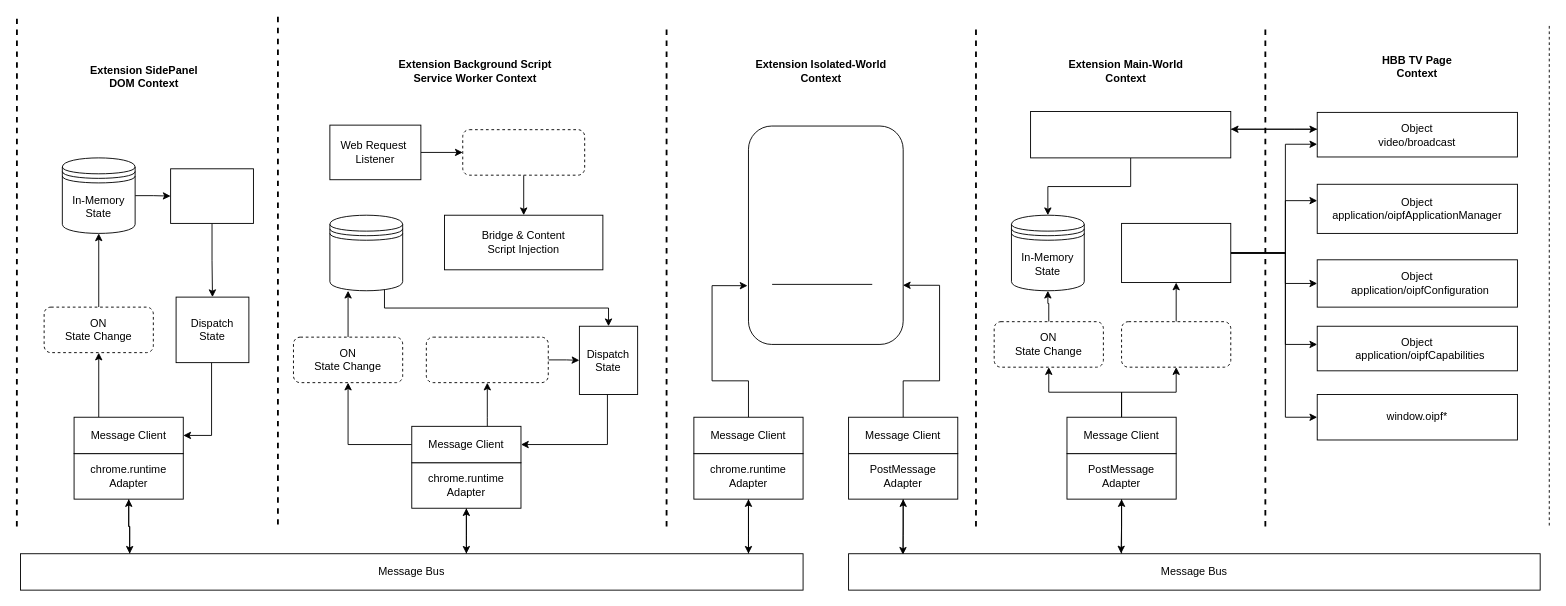
This 1566x606 diagram has some shape labels left out. The shapes that lost their labels are listed below. From the top down, each one's centre as x and y in pixels, then its label:
(x=523, y=152): ON HBBTV Tab detected
(x=1130, y=134): HTMLVideoElement Stream Adapter
(x=211, y=195): React Settings UI
(x=366, y=252): Permanent Storage
(x=825, y=234): Bridge Message Forwarding
(x=1176, y=252): DOM Injection & Attach
(x=486, y=359): ON Content Script Ready
(x=1176, y=344): ON Bridge Ready
